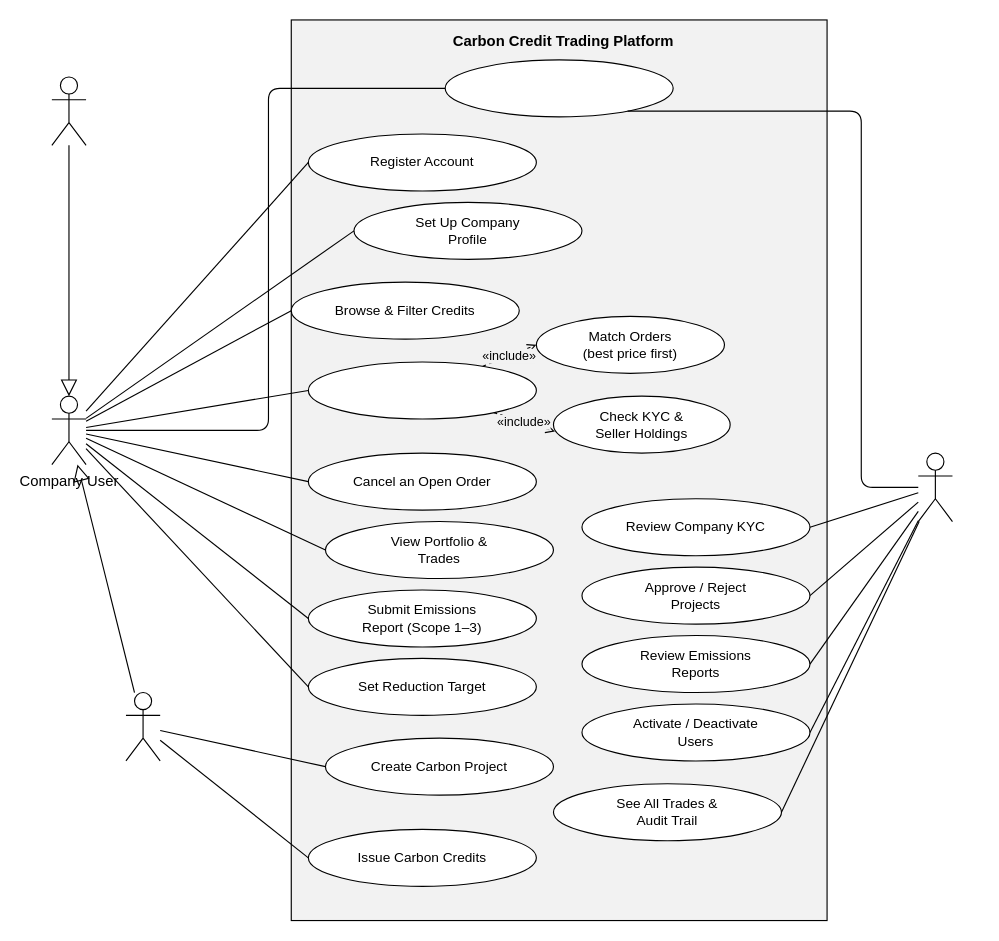
Image size: 999x941. Some labels were removed from this diagram. Each missing label, with the centre of its shape:
"Administrator" goes at (x=934, y=487).
"Buyer" goes at (x=68, y=110).
"Log In" goes at (x=558, y=88).
"Place Buy / Sell Order" goes at (x=421, y=390).
"Seller" goes at (x=142, y=726).
